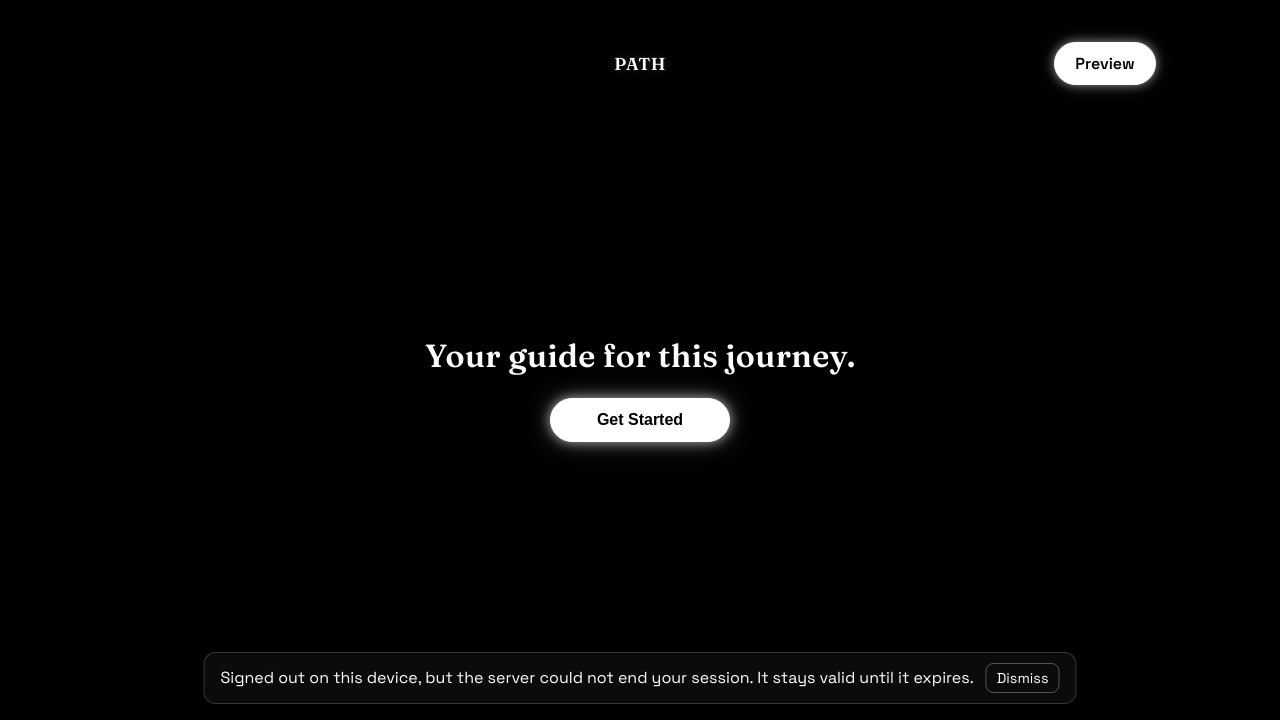
Test case: App › logging out › when the server could not end the session › can be dismissed
Click the button "Dismiss" at (1023, 678), box [986,663,1060,693]
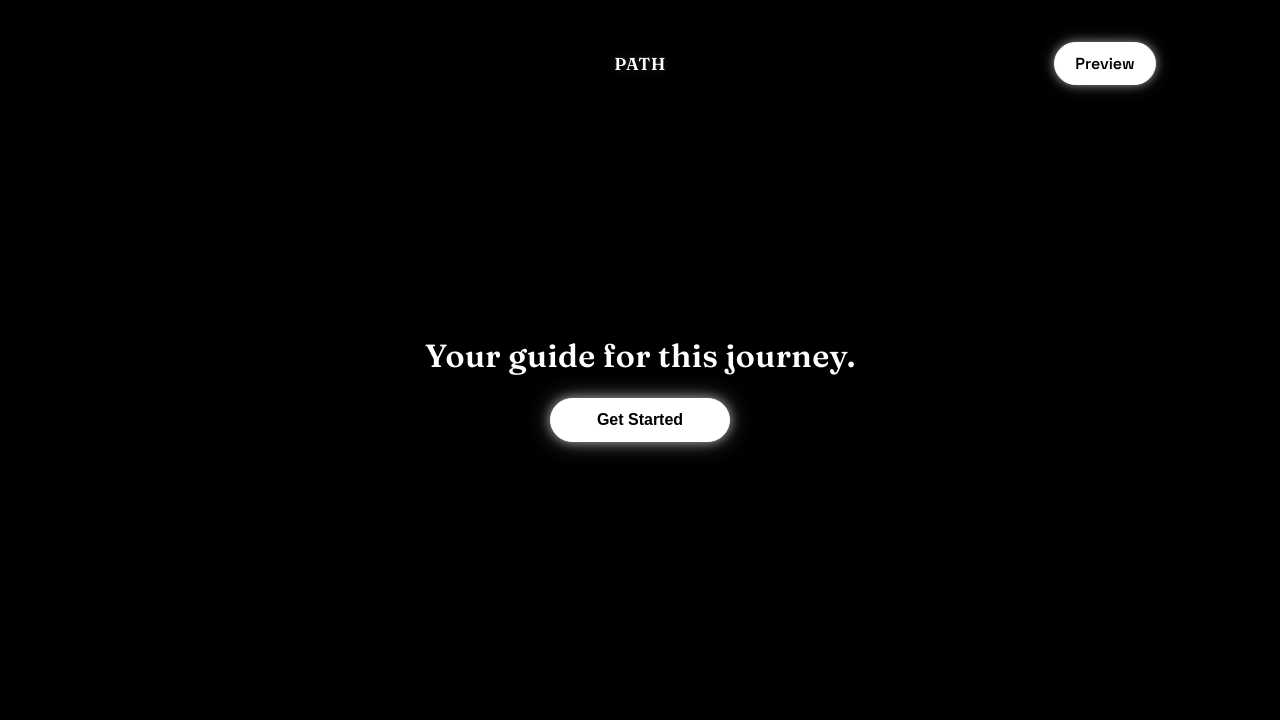
Now the text "the server could not end your session" is gone
